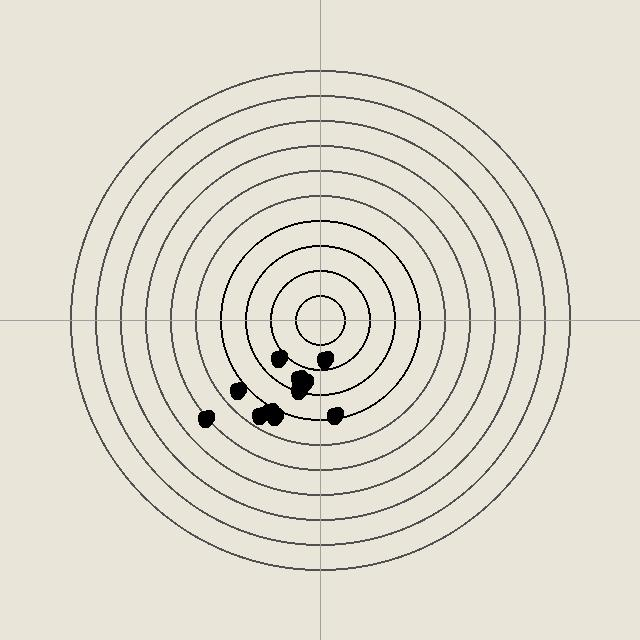good_group: (288, 380, 308, 400), (195, 408, 215, 428), (264, 406, 284, 426), (259, 401, 279, 421), (294, 372, 314, 392), (249, 405, 269, 425), (268, 348, 288, 368), (288, 368, 308, 388), (314, 349, 334, 369), (324, 405, 344, 425), (227, 380, 247, 400)
